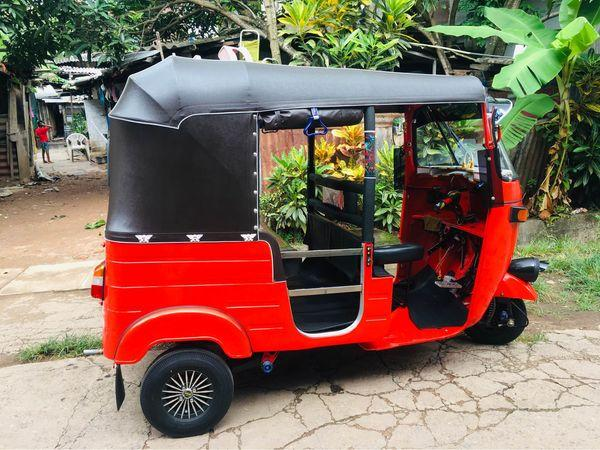threewheel: (90, 55, 552, 439)
